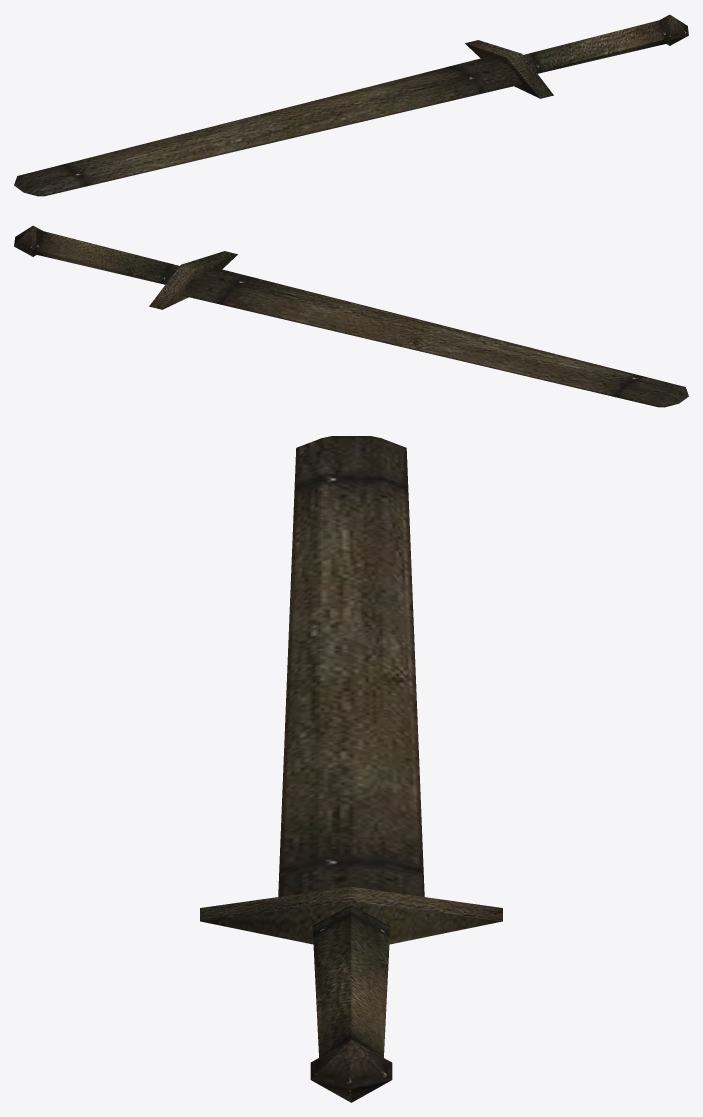
The model's file is KM_VOB_WOOD_SWORD_01.glb.
3 views of the same model, one above another, from view 1: azimuth 30°, elevation 25°; view 2: azimuth 150°, elevation 25°; view 3: azimuth 270°, elevation 25° (orthographic). The views are drawn at different scales.
Parts seen in each view (by area): view 1: KM_VOB_WOOD_SWORD_01; view 2: KM_VOB_WOOD_SWORD_01; view 3: KM_VOB_WOOD_SWORD_01.
Boxes of the visible parts, x1,y1,x2,y2 form: KM_VOB_WOOD_SWORD_01: (14, 14, 688, 196); KM_VOB_WOOD_SWORD_01: (14, 225, 688, 407); KM_VOB_WOOD_SWORD_01: (200, 436, 502, 1102).
Bounding box in the file's own units: 1.16 × 0.0522 × 0.2271.
1 material, 1 textured.
